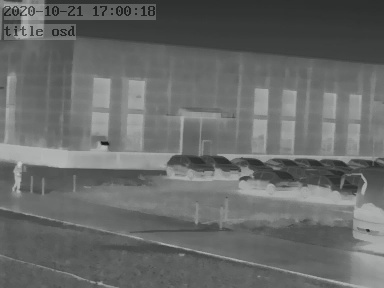person: (12, 158, 23, 194)
vehicle: (302, 172, 358, 200), (164, 152, 212, 179), (238, 172, 301, 191), (204, 153, 242, 177), (232, 154, 269, 171), (343, 155, 379, 172), (262, 155, 296, 170), (319, 156, 350, 171), (296, 155, 325, 169)
